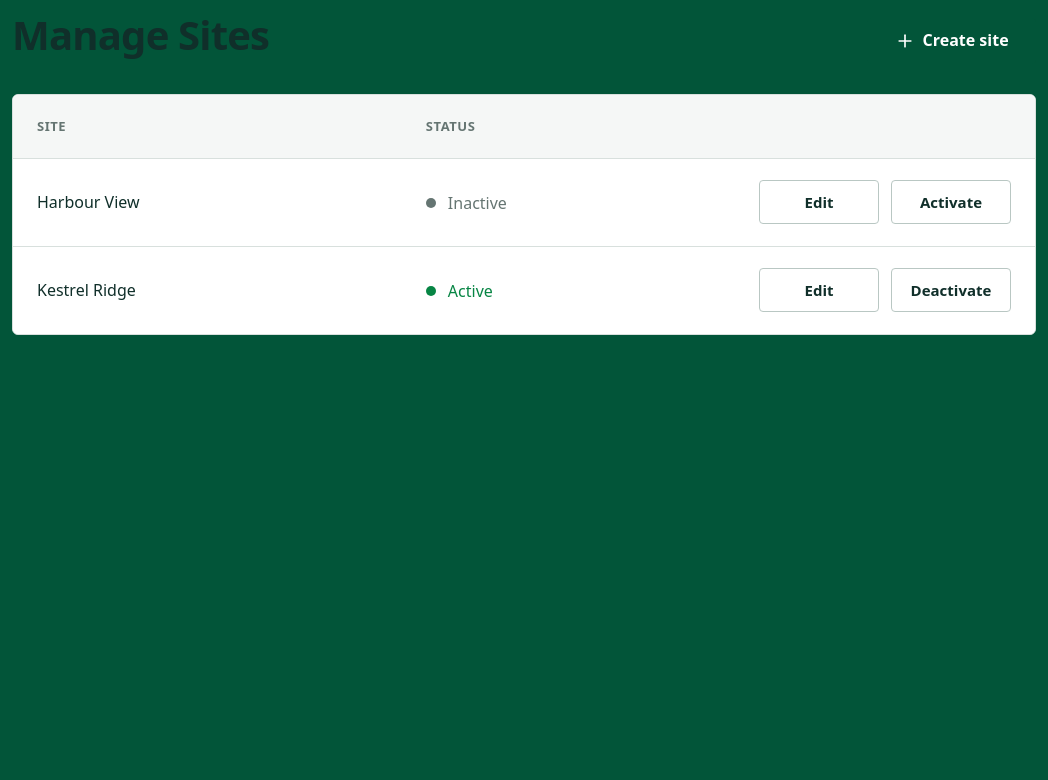
Test: AdminSitesPage › renames a site and edits its checklist items
The width and height of the screenshot is (1048, 780).
Check: the table is shown, box [13,95,1035,334]
Click the button "Edit" in the row of "Kestrel Ridge": {"x": 819, "y": 290} [759,268,879,312]
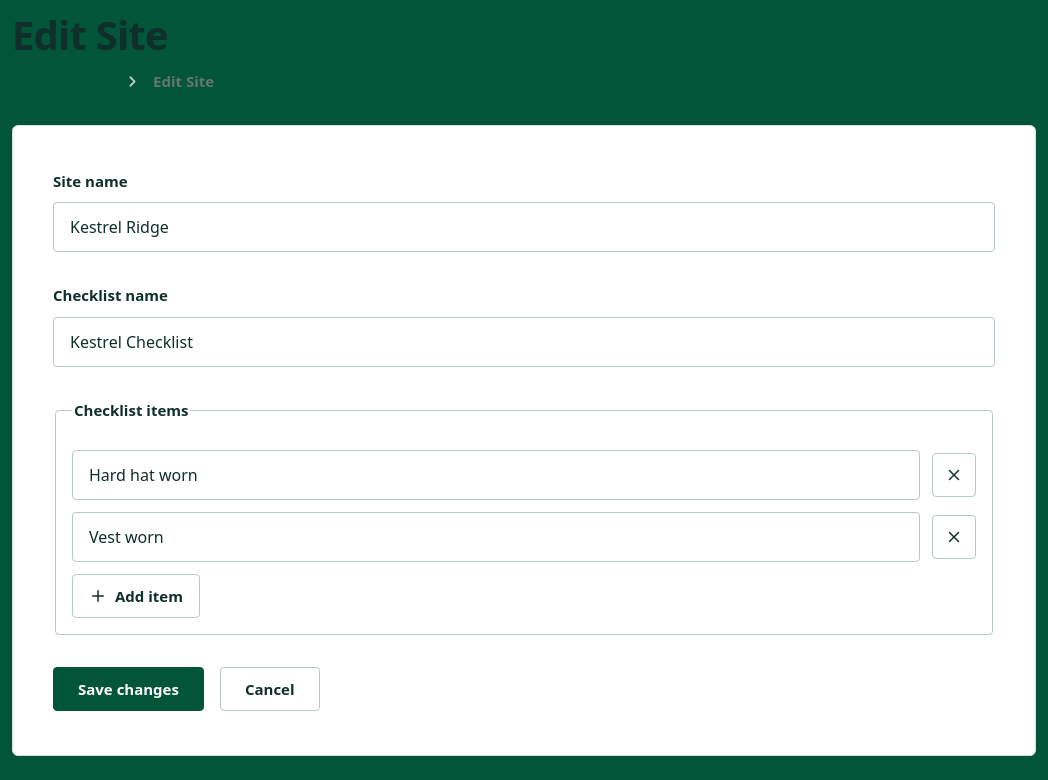
Check: the field labelled "Site name" holds "Kestrel Ridge"
Check: the field showing "Hard hat worn" is shown, box [72,450,920,500]
Replace the text in the field labelled "Site name" with "Kestrel Heights": {"x": 524, "y": 227} [53,202,995,252]
Replace the text in the field named "Checklist item 1" with "Hard hat and gloves": {"x": 496, "y": 475} [72,450,920,500]
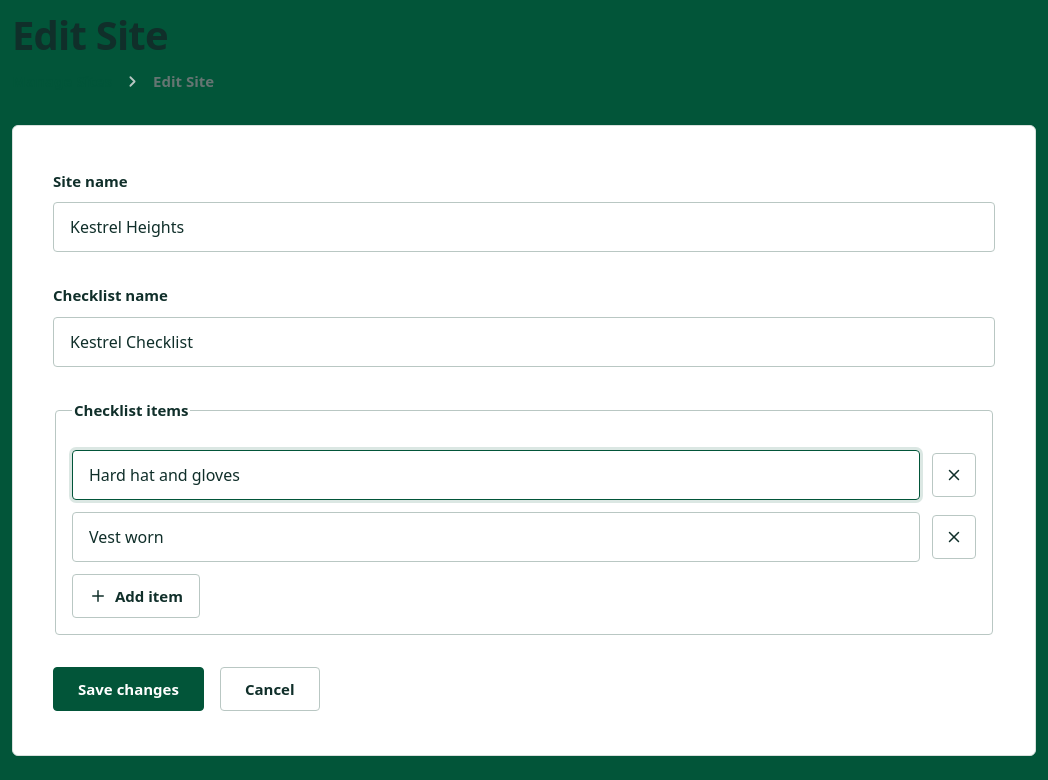
Click the button named "Remove checklist item 2": {"x": 954, "y": 537} [932,515,976,559]
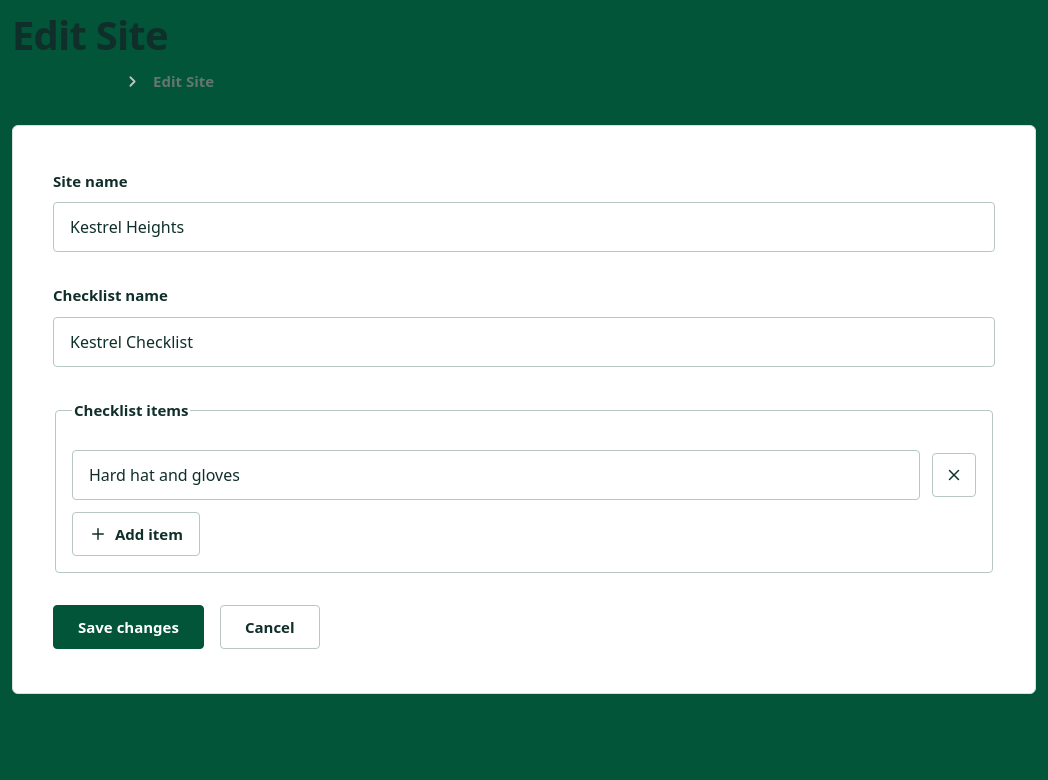
Click the button "Add item": {"x": 136, "y": 534} [72,512,200,556]
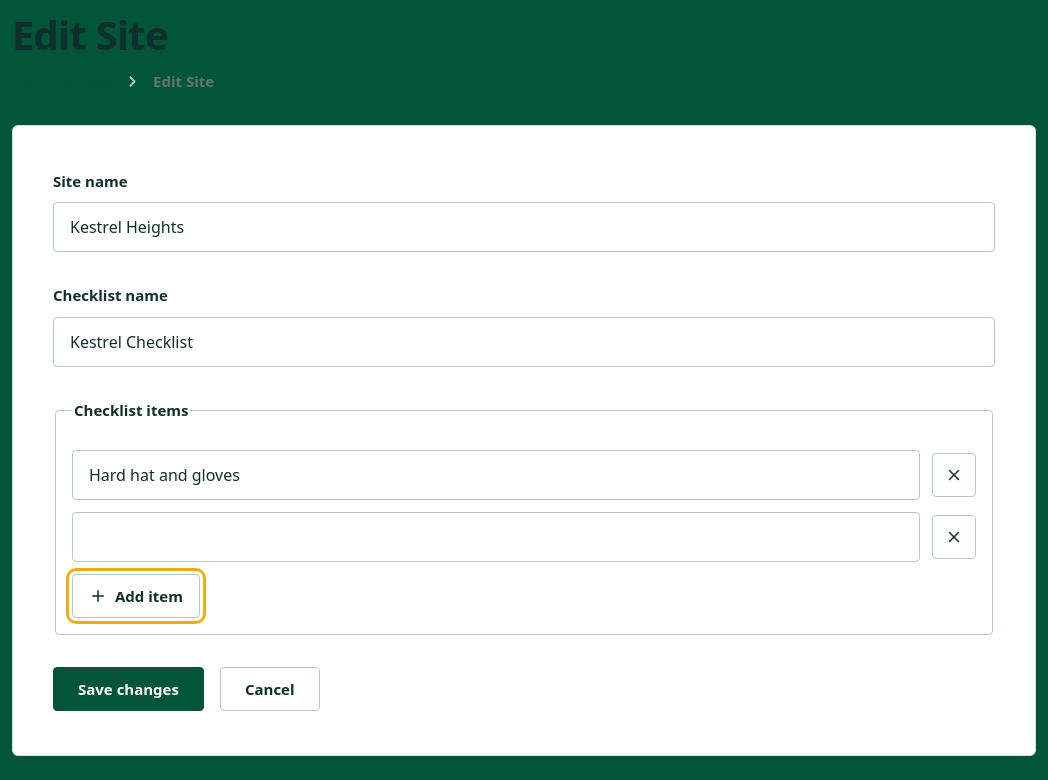
In the field named "Checklist item 2": {"x": 496, "y": 537} [72,512,920,562], type "Fall protection"
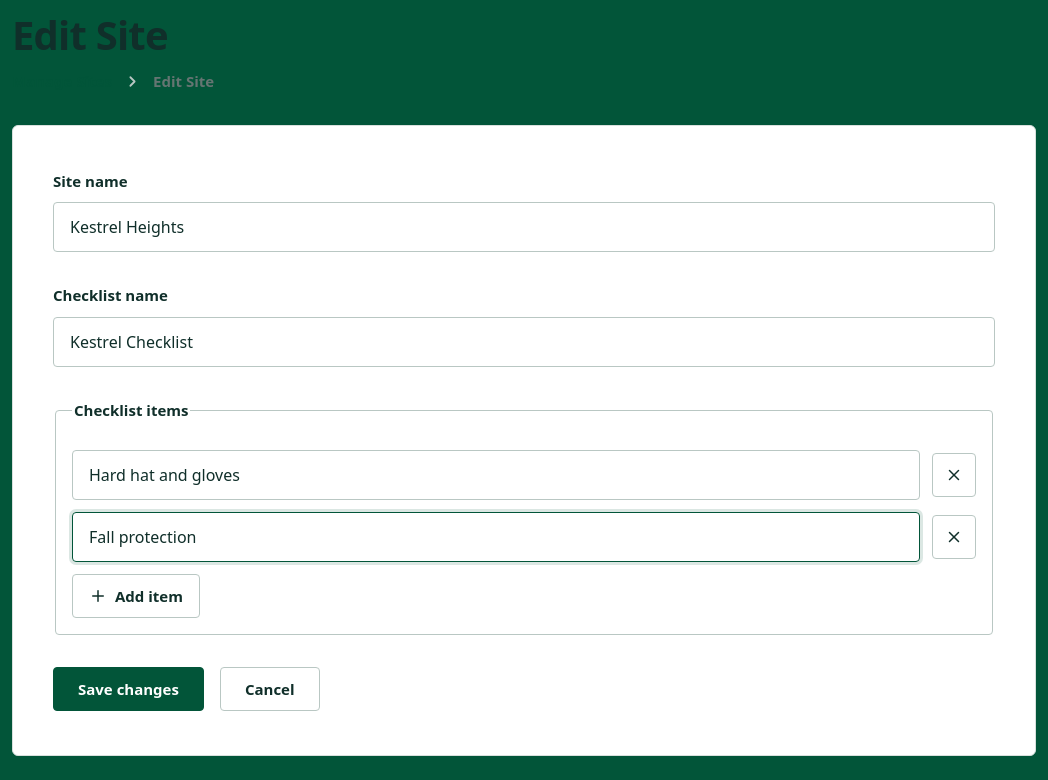
Click the button "Save changes": {"x": 128, "y": 689} [53,667,204,711]
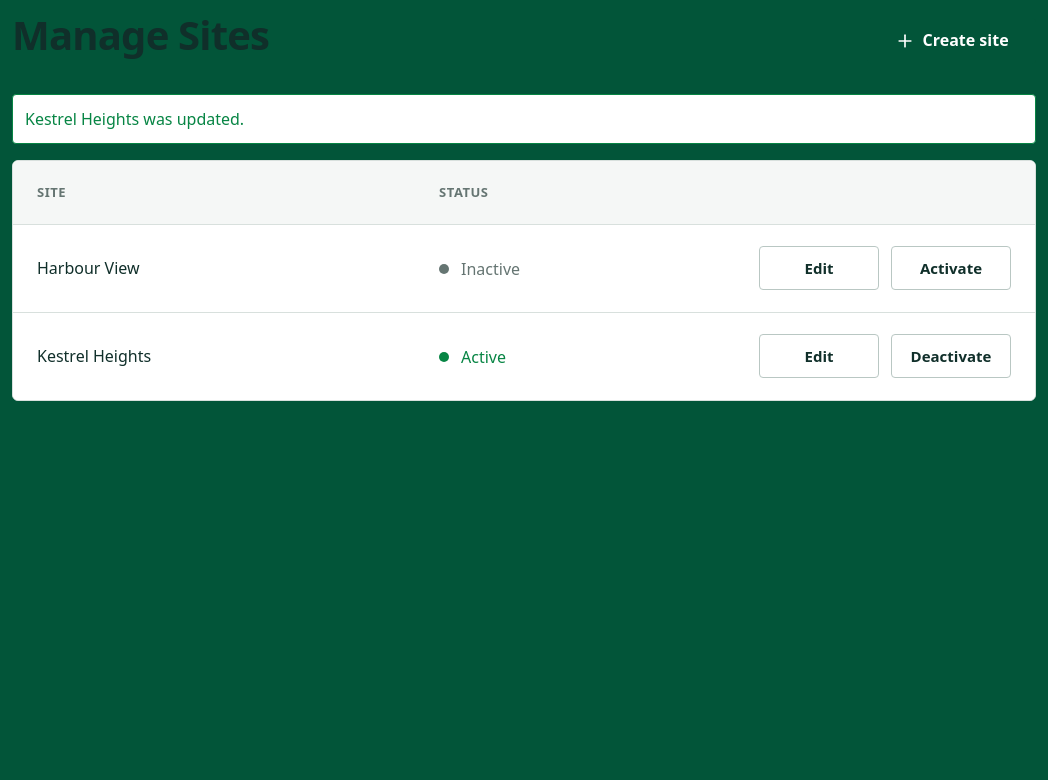
Check: the text "Kestrel Heights was updated." is shown, box [25,108,244,130]
